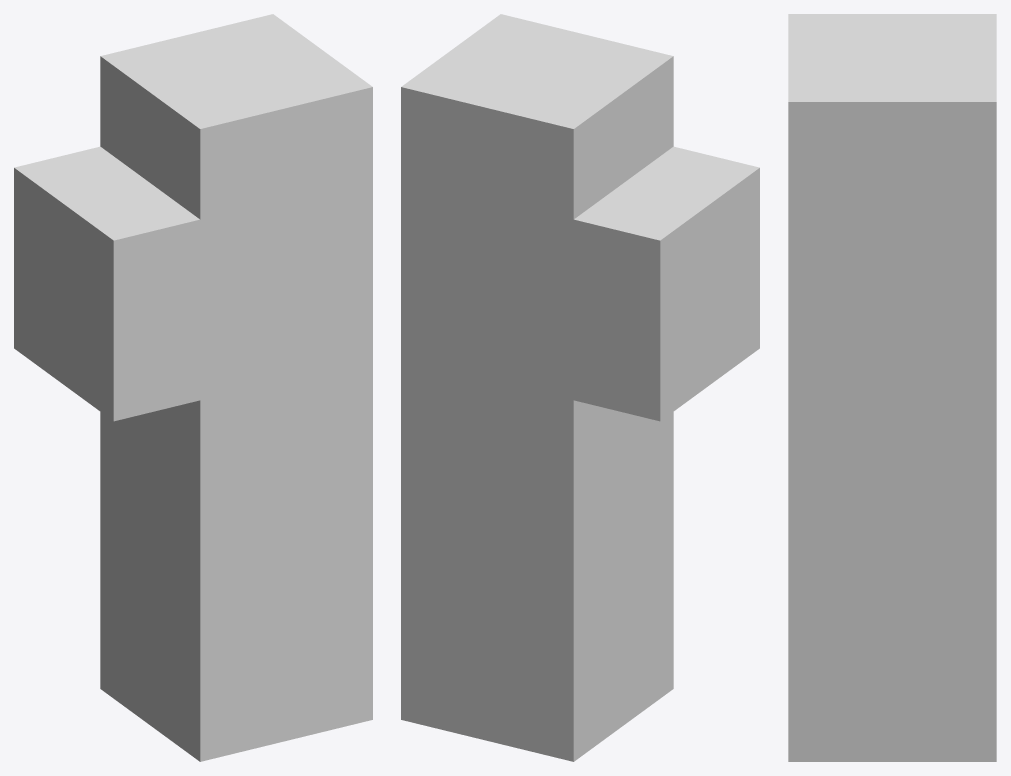
The model's file is Number1.obj.
3 views of the same model, side by side, from view 1: azimuth 30°, elevation 25°; view 2: azimuth 150°, elevation 25°; view 3: azimuth 270°, elevation 25° (orthographic). The views are drawn at different scales.
Size of the model in its own units: 0.3 by 0.7 by 0.2.
Materials: 1 (1 with a texture image).
